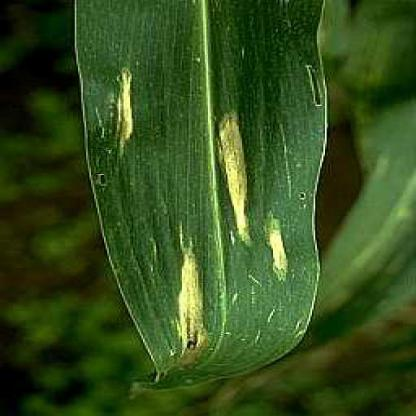corn leaf blight: (63, 1, 338, 398)
